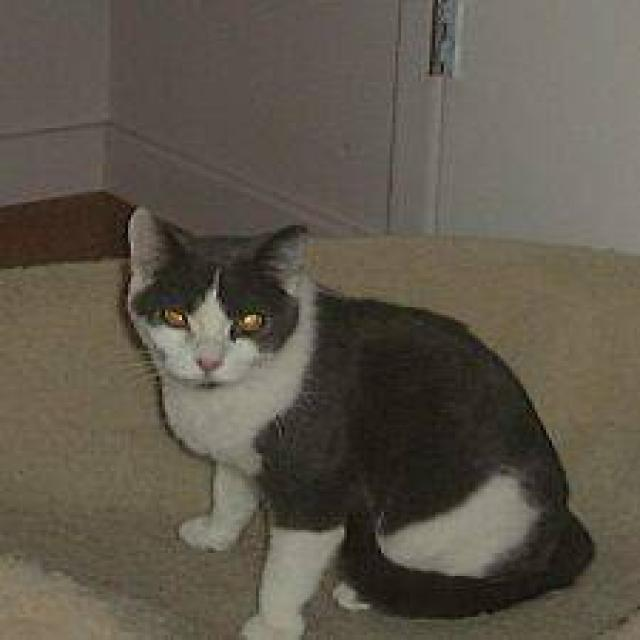cat: (116, 202, 594, 638)
